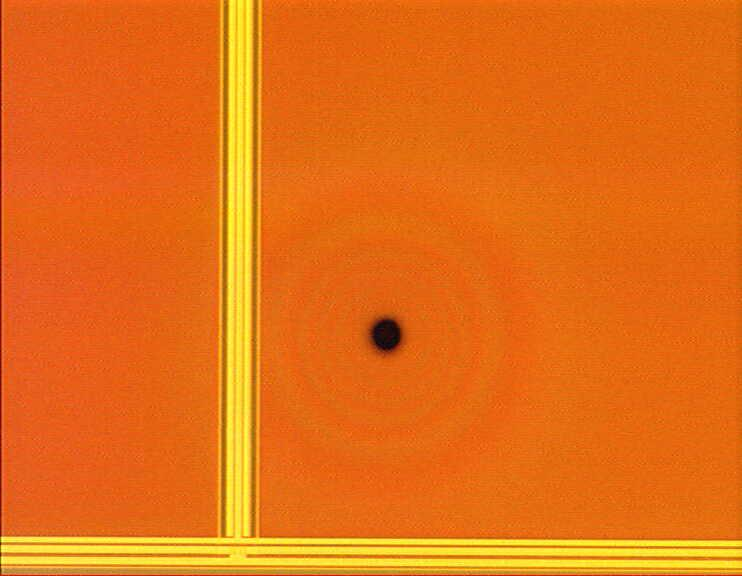PIQ PARTICLE: (365, 314, 409, 358)
